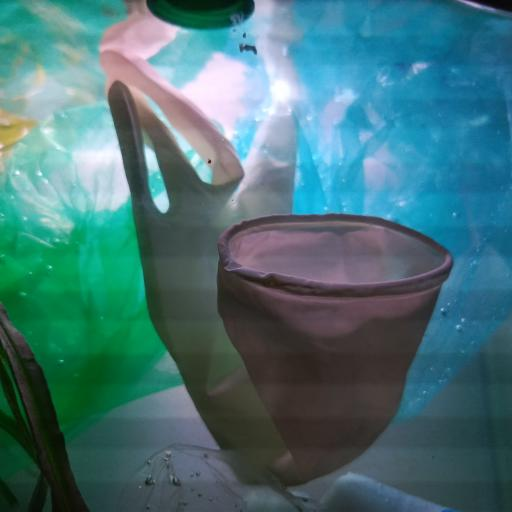bottle_cap: (148, 0, 254, 32)
glove: (98, 46, 454, 489)
plastic_bag: (229, 0, 512, 419), (0, 100, 233, 482), (107, 444, 291, 512)
plastic_bottle: (311, 468, 457, 512)
